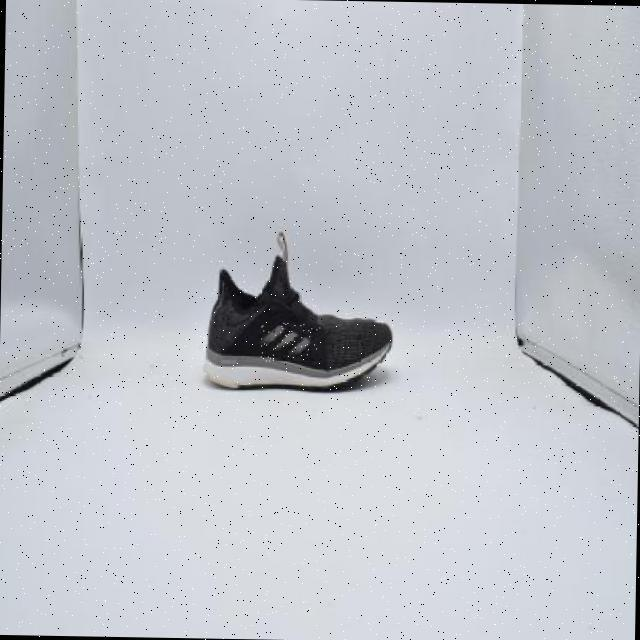Adidas: (260, 322, 320, 362)
